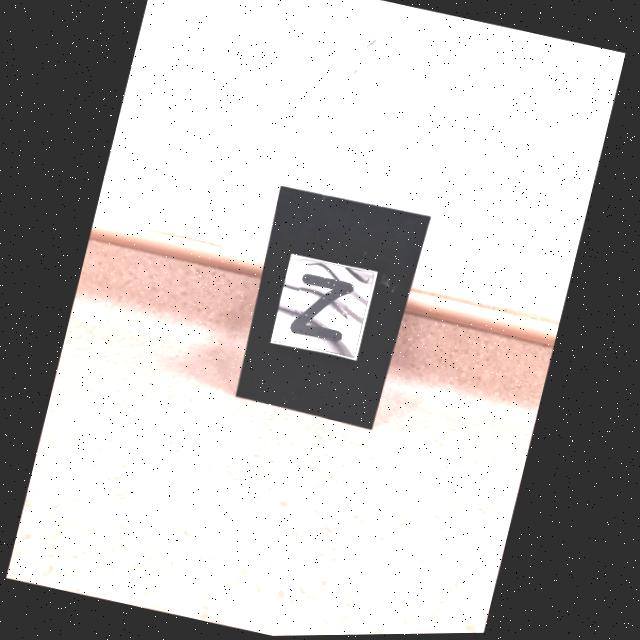Z: (290, 275, 354, 342)
